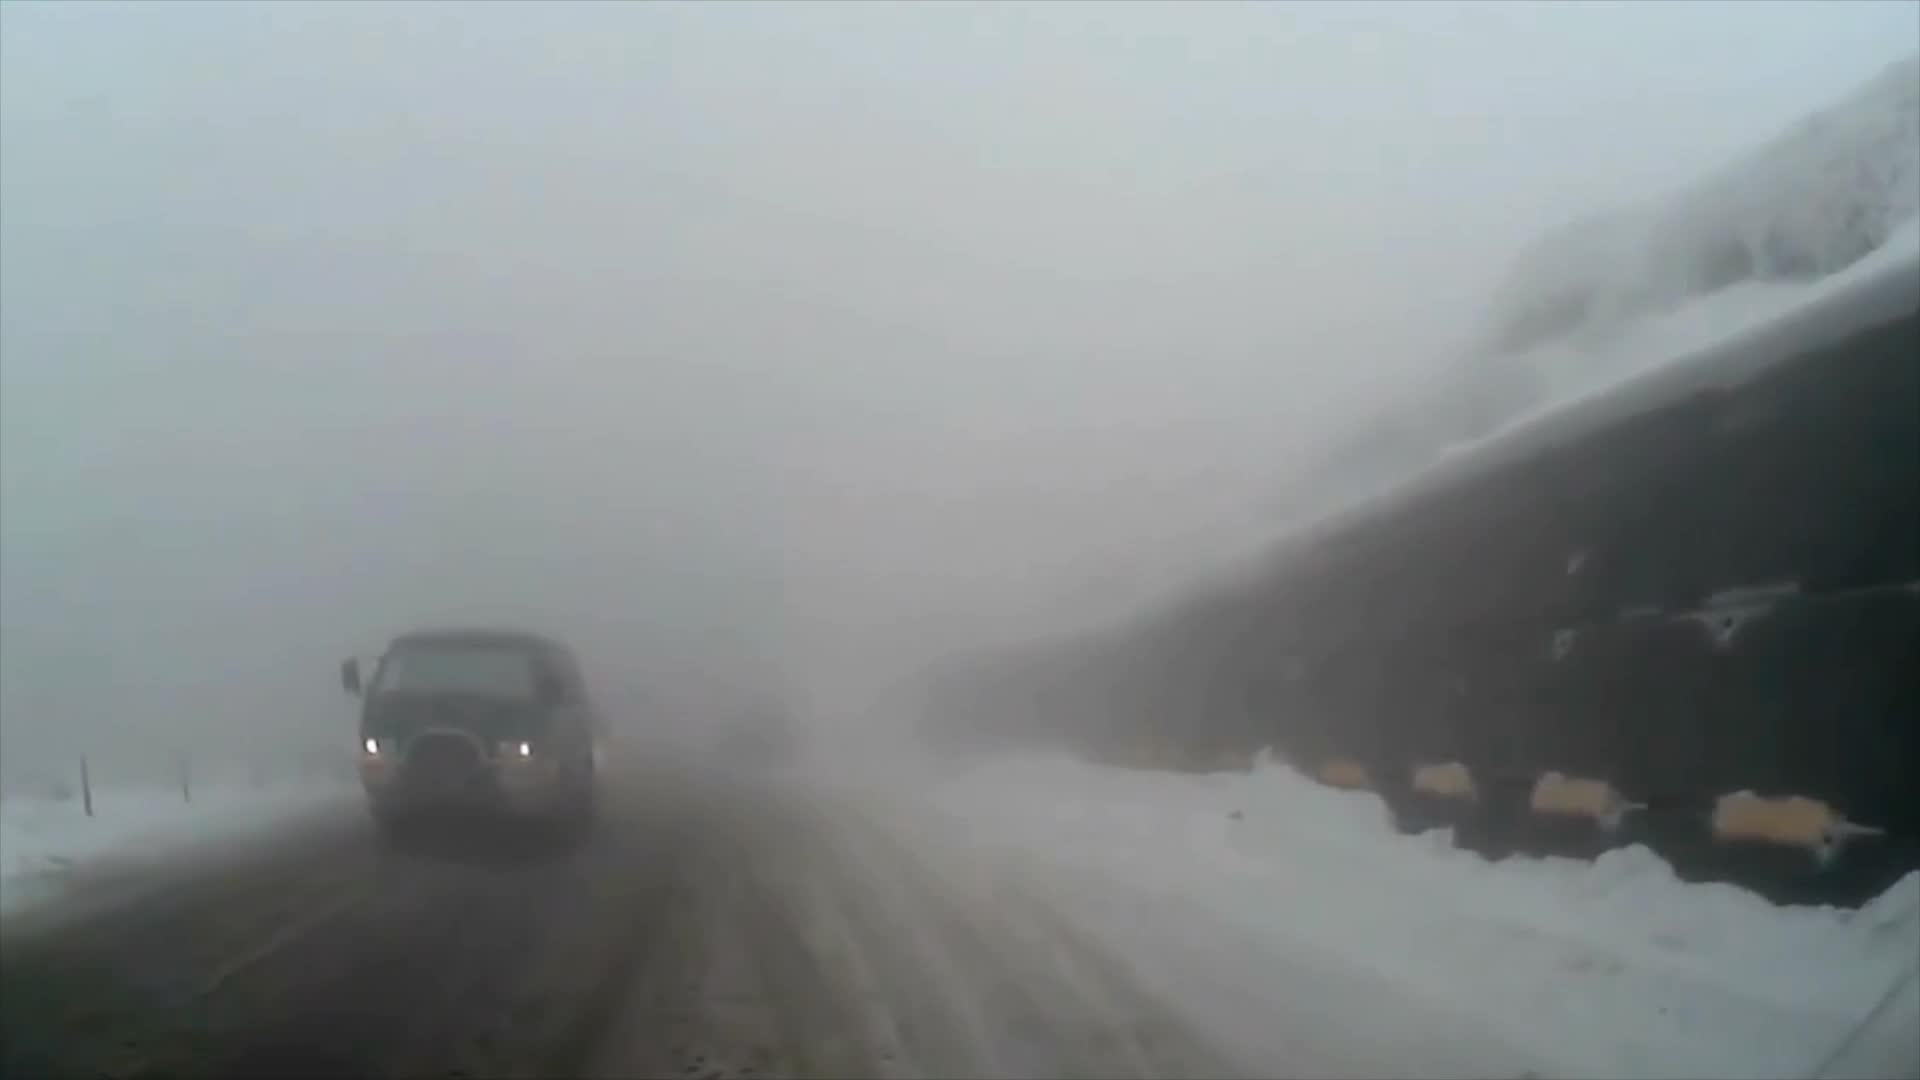vehicle: (335, 624, 599, 858)
